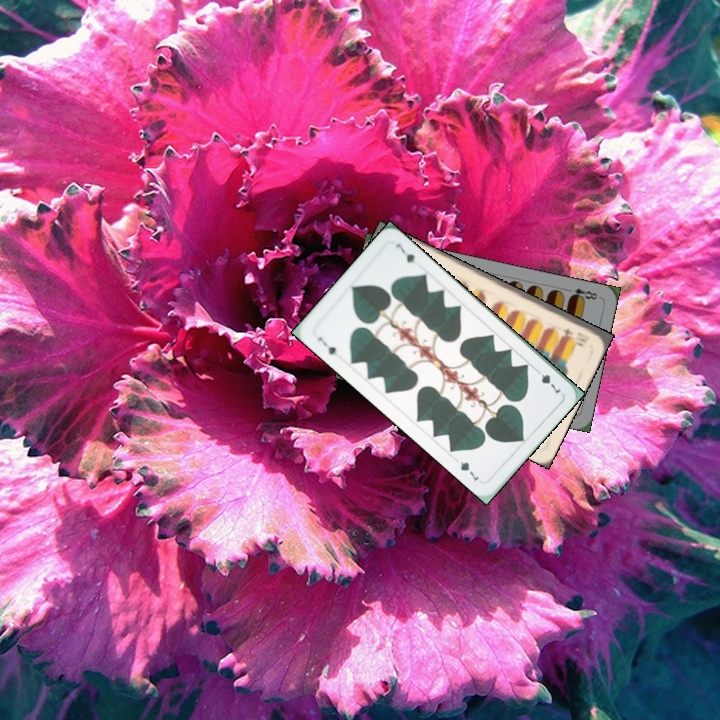E10: (559, 324, 591, 345)
E8: (562, 284, 600, 303)
G7: (531, 365, 563, 396), (313, 333, 339, 358)
